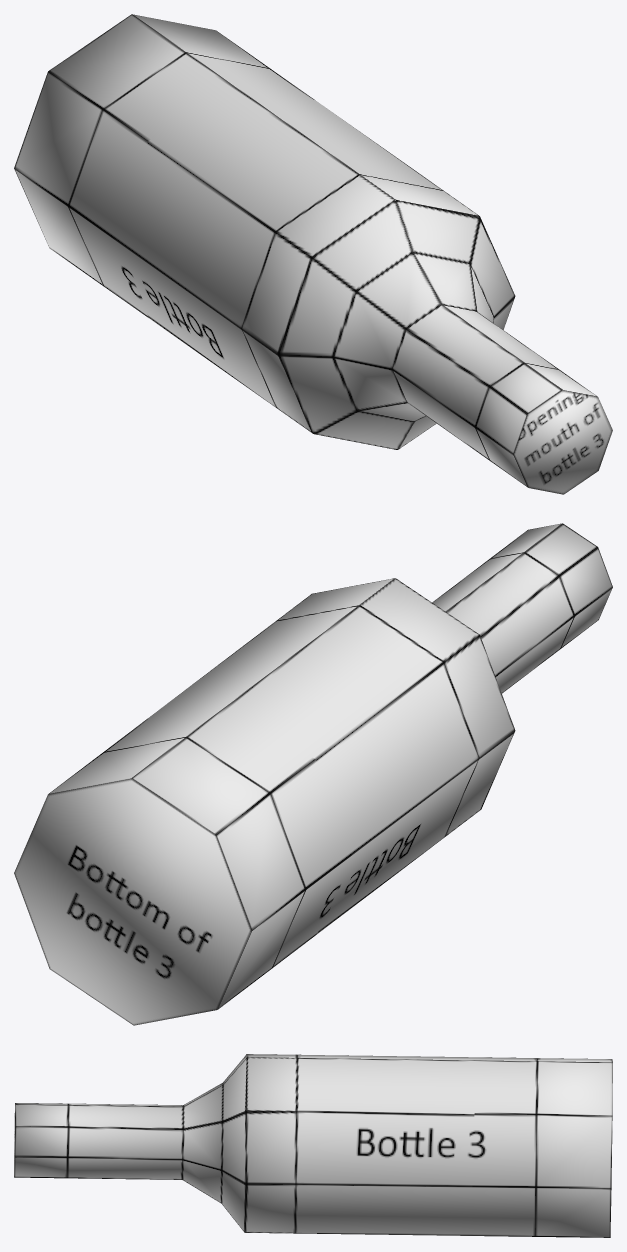
Rendered from Bottle03.fbx.
3 renders of one model, top to bottom at view 1: azimuth 30°, elevation 25°; view 2: azimuth 150°, elevation 25°; view 3: azimuth 270°, elevation 25°, orthographic. The views are drawn at different scales.
Parts seen in each view (by area): view 1: Bottle_03; view 2: Bottle_03; view 3: Bottle_03.
Part boxes in pixels (x1,y1,x2,y2): Bottle_03: [14, 14, 612, 494]; Bottle_03: [14, 523, 612, 1025]; Bottle_03: [14, 1054, 612, 1237].
Bounding box in the file's own units: 8.26 × 8.5 × 26.
Materials: 1 (1 with a texture image).
